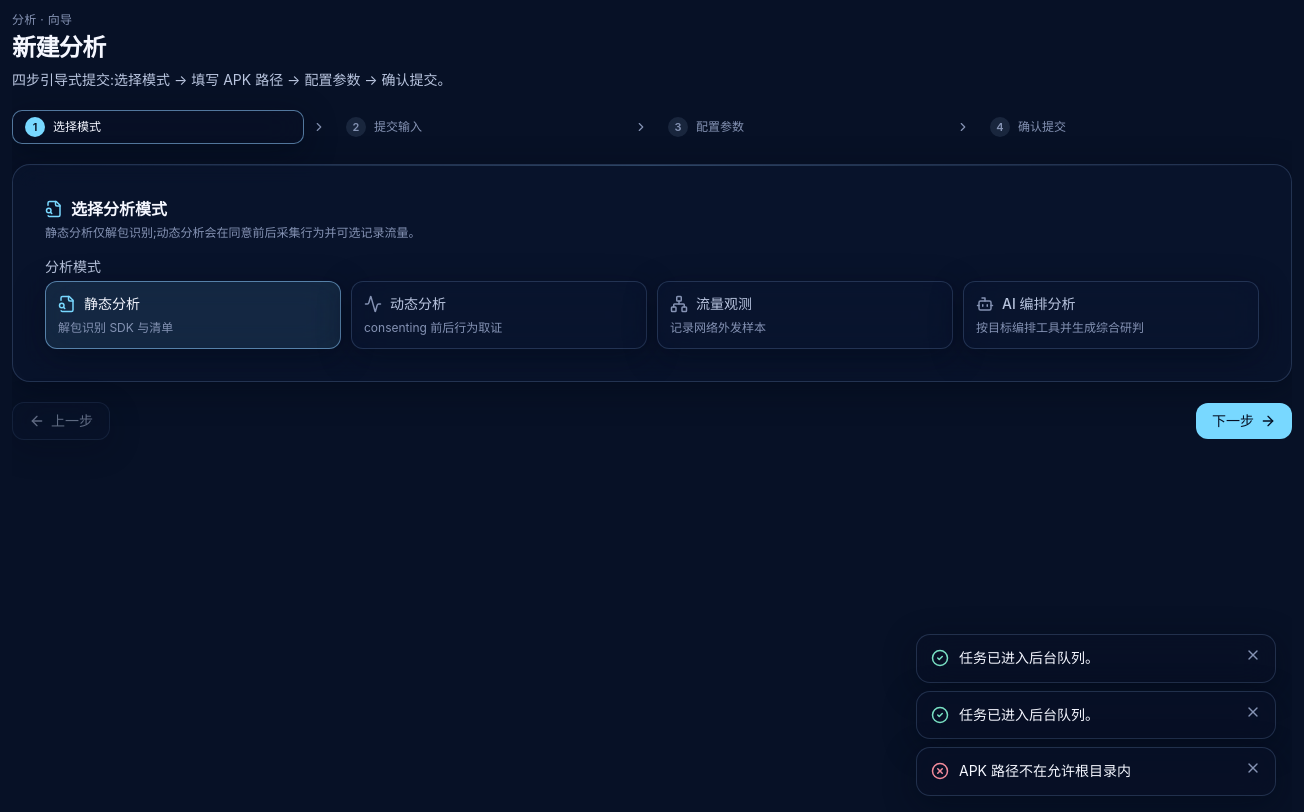
it: NewAnalysis — 持久化任务提交 › 后端不可达时显示连接诊断且不伪造任务
Click the button "下一步" at (1244,421), box [1196,403,1292,439]
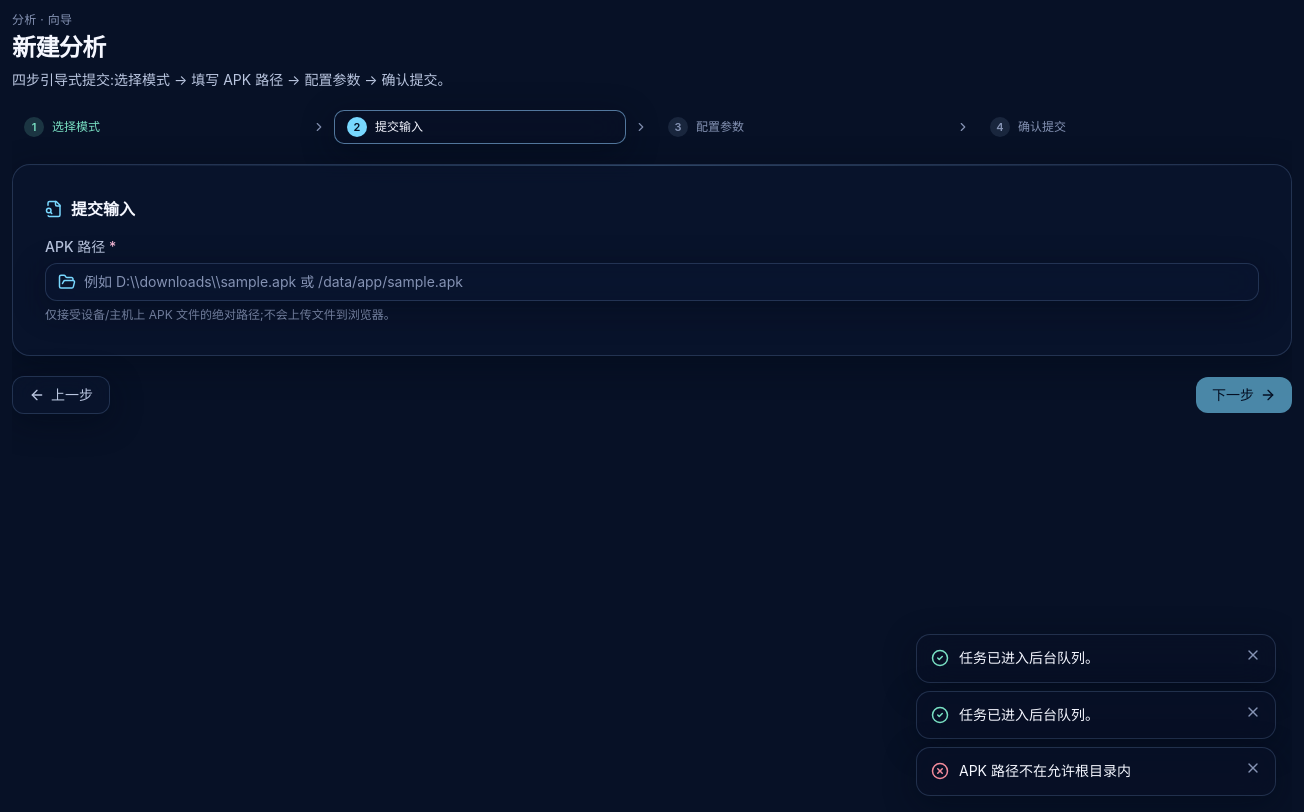
Type "D:/authorized/sample.apk" into the field labelled "APK 路径 *" at (665,282), box [84,272,1246,292]
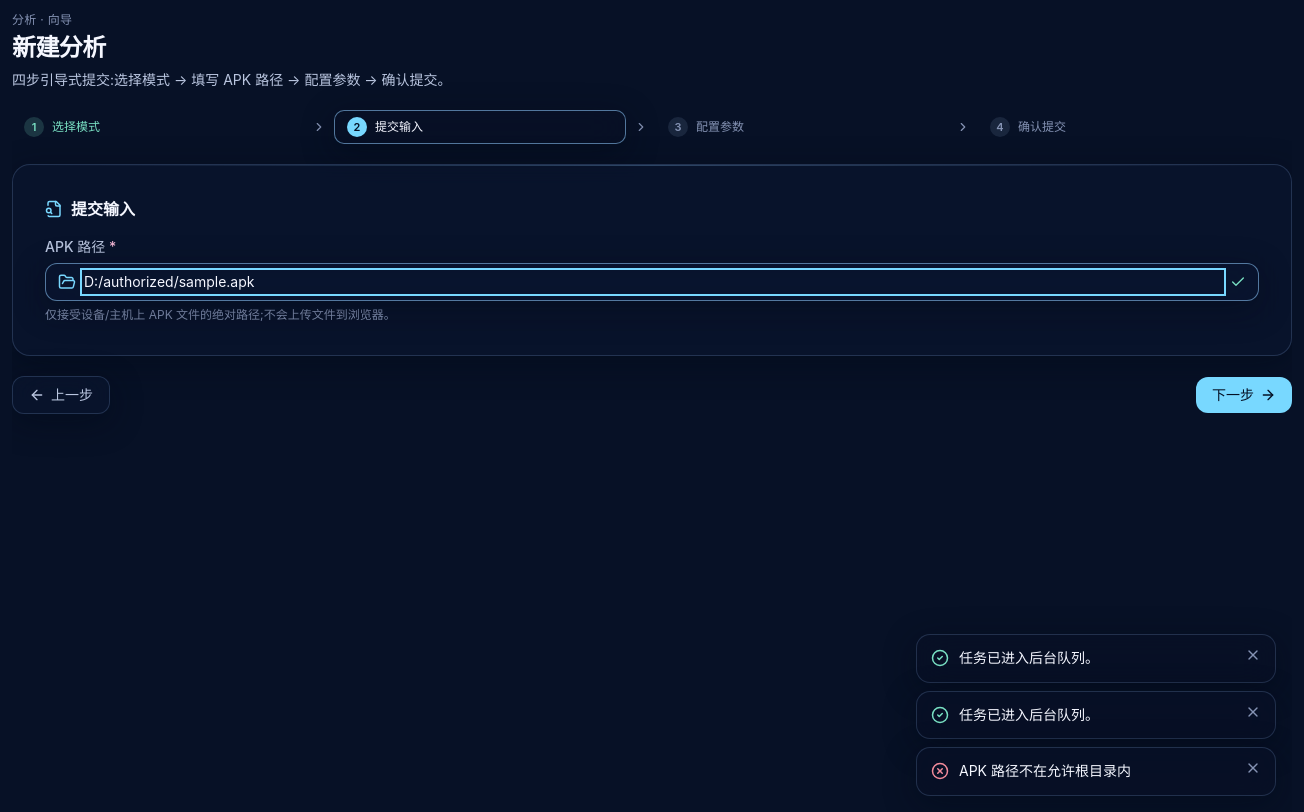
Click the button "下一步" at (1244,395), box [1196,377,1292,413]
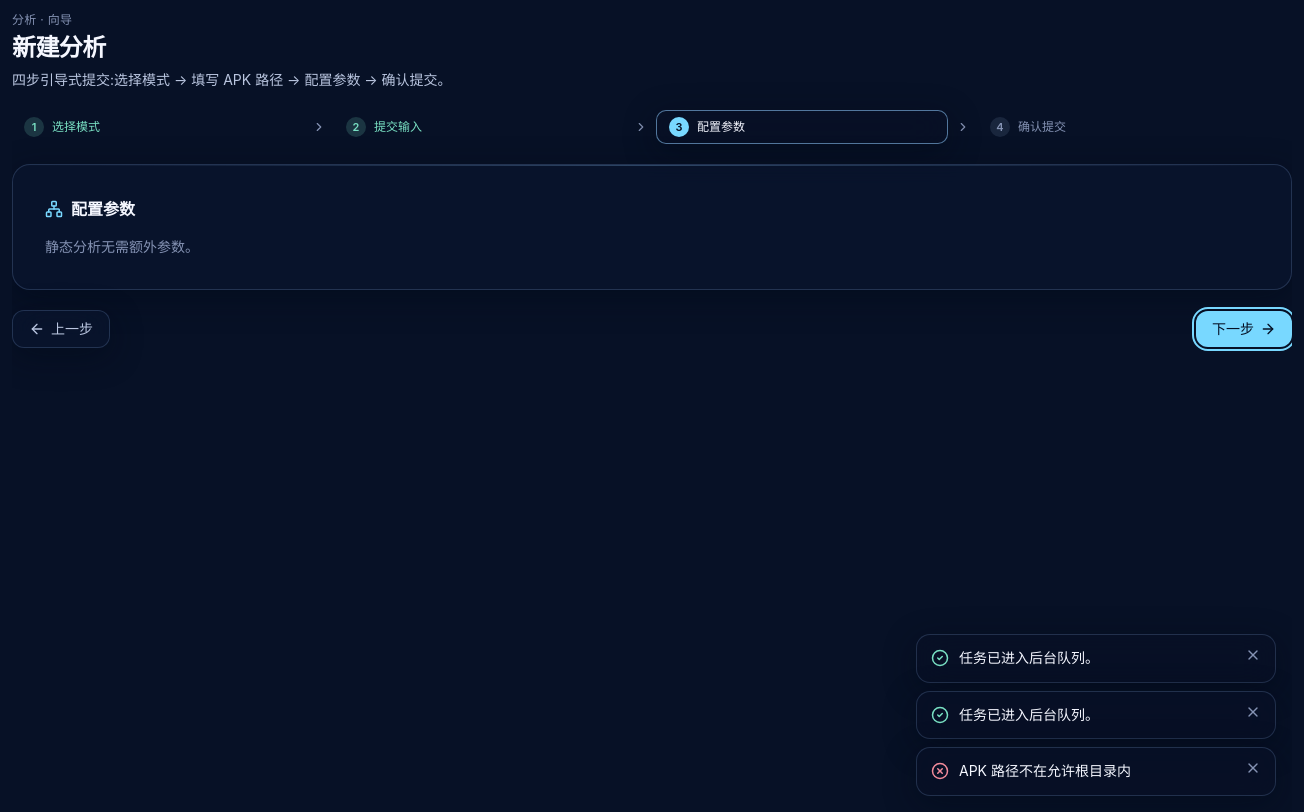
Click the button "下一步" at (1244,329), box [1196,311,1292,347]
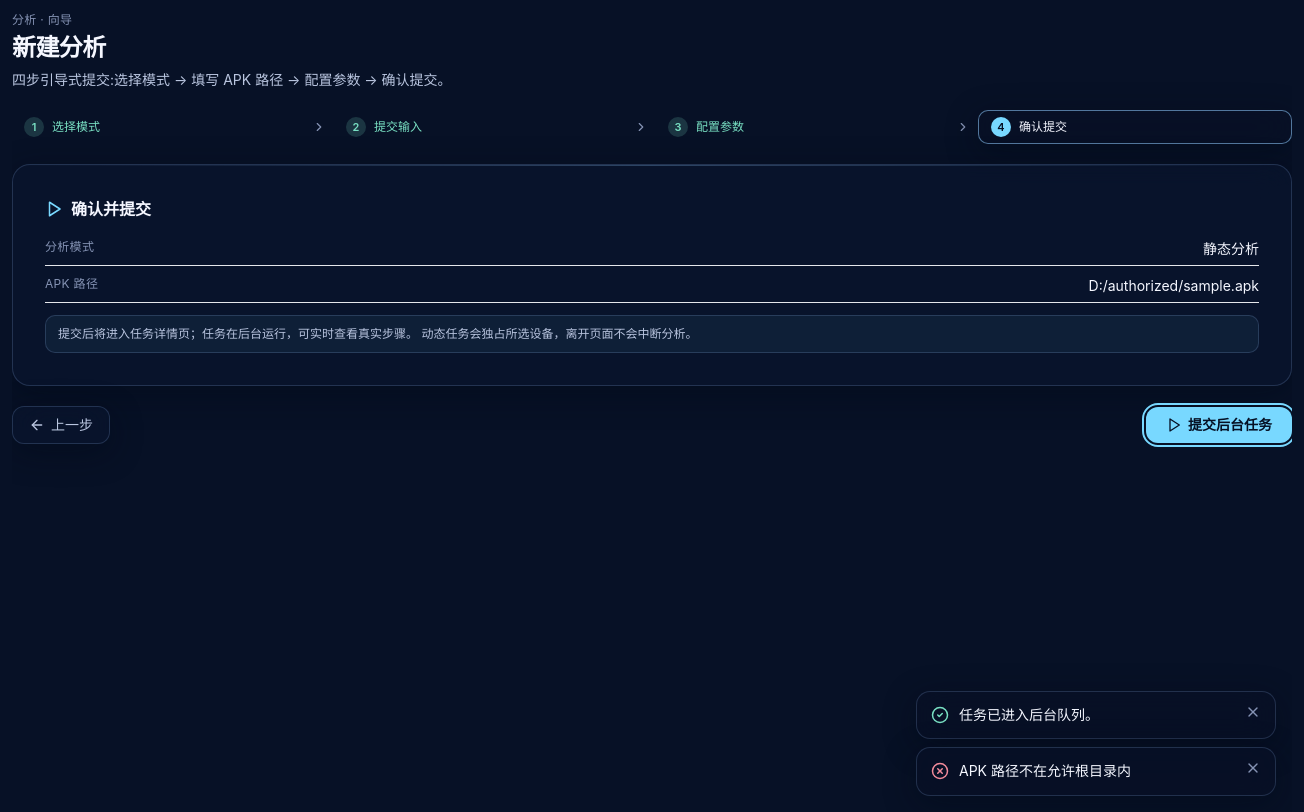
Click the button "提交后台任务" at (1219,424), box [1146,406,1292,442]
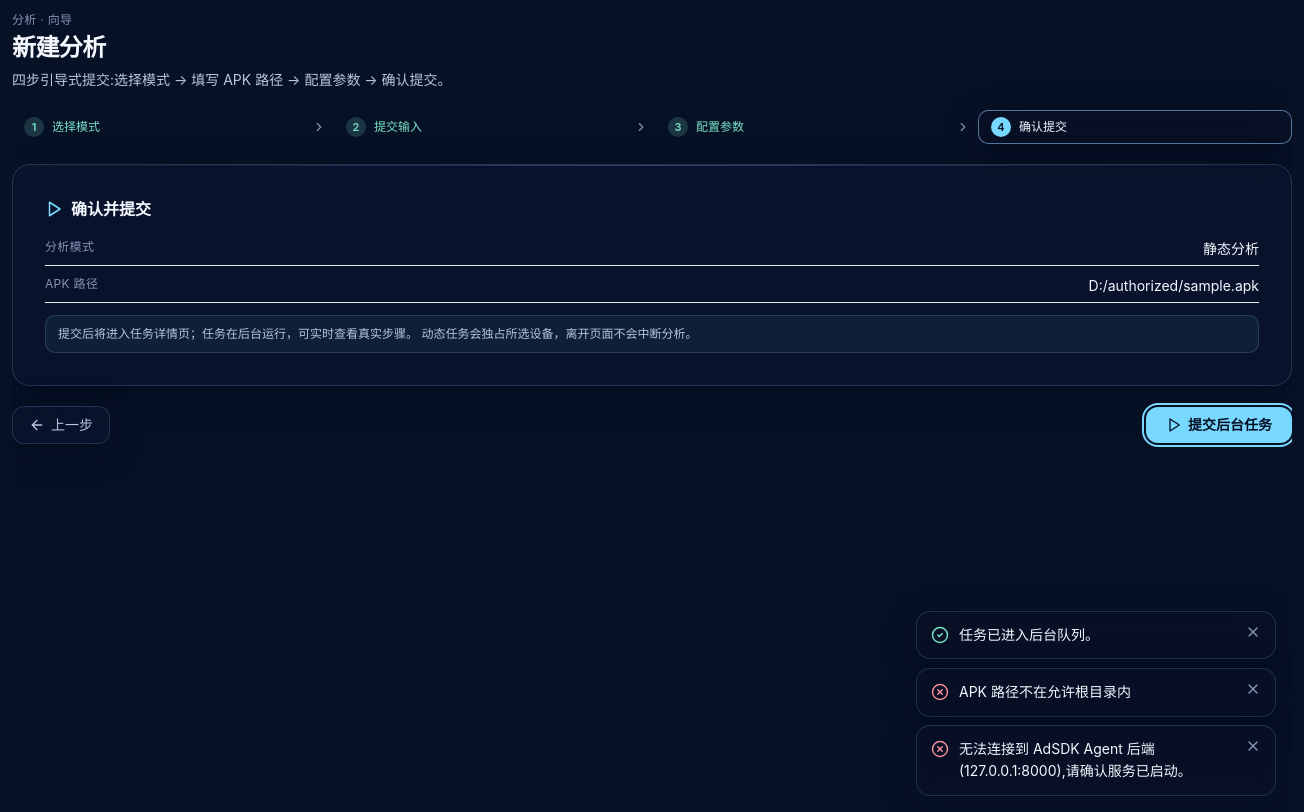
Expected: the text "无法连接到 AdSDK Agent 后端(127.0.0.1:8000),请确认服务已启动。" is shown, [959,740,1192,779]
